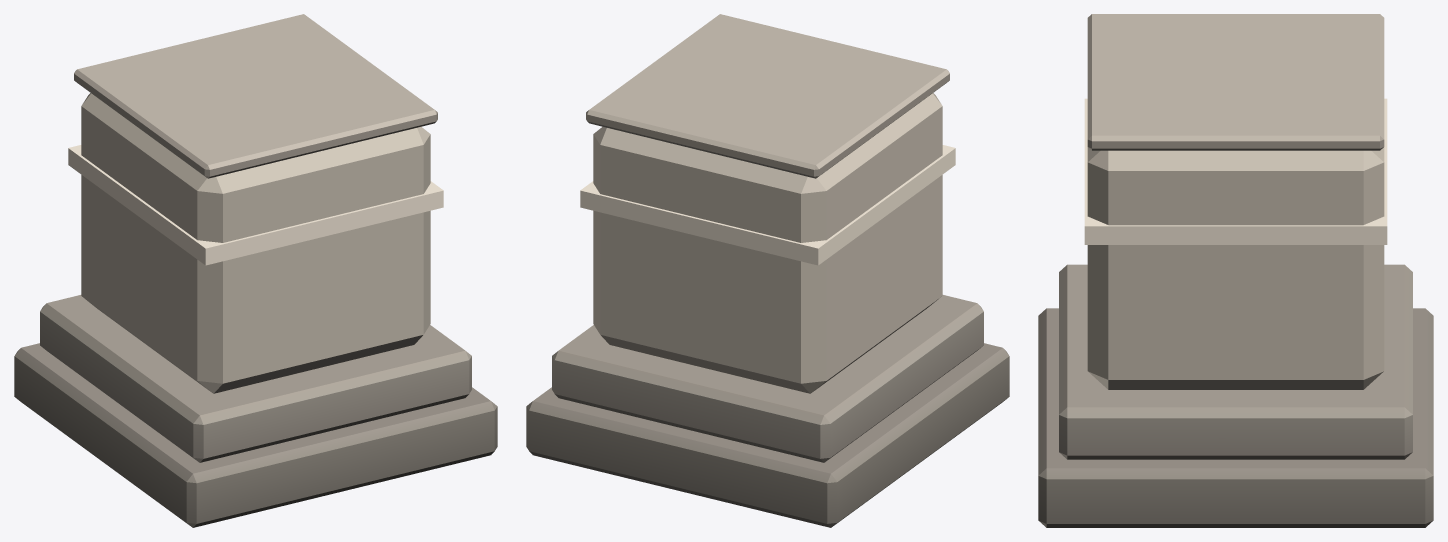
The model's file is SM_VKI_Prop_Pillar_Dwarf_Cut.fbx.
3 renders of one model, left to right at view 1: azimuth 30°, elevation 25°; view 2: azimuth 150°, elevation 25°; view 3: azimuth 270°, elevation 25°, orthographic. The views are drawn at different scales.
Parts seen in each view (by area): view 1: SM_VKI_Prop_Pillar_Dwarf_Cut.001; view 2: SM_VKI_Prop_Pillar_Dwarf_Cut.001; view 3: SM_VKI_Prop_Pillar_Dwarf_Cut.001.
Boxes of the visible parts, bbox=[...] form: SM_VKI_Prop_Pillar_Dwarf_Cut.001: bbox=[14, 14, 497, 527]; SM_VKI_Prop_Pillar_Dwarf_Cut.001: bbox=[526, 14, 1009, 527]; SM_VKI_Prop_Pillar_Dwarf_Cut.001: bbox=[1038, 14, 1433, 527].
Size of the model in its own units: 0.96 by 1 by 0.96.
